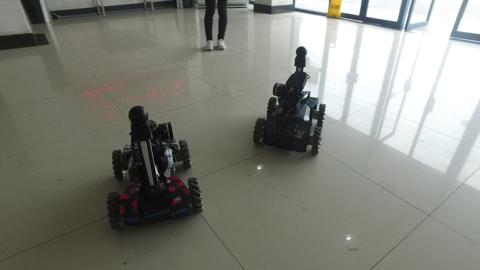chariot: (102, 101, 206, 235), (247, 46, 330, 163)
